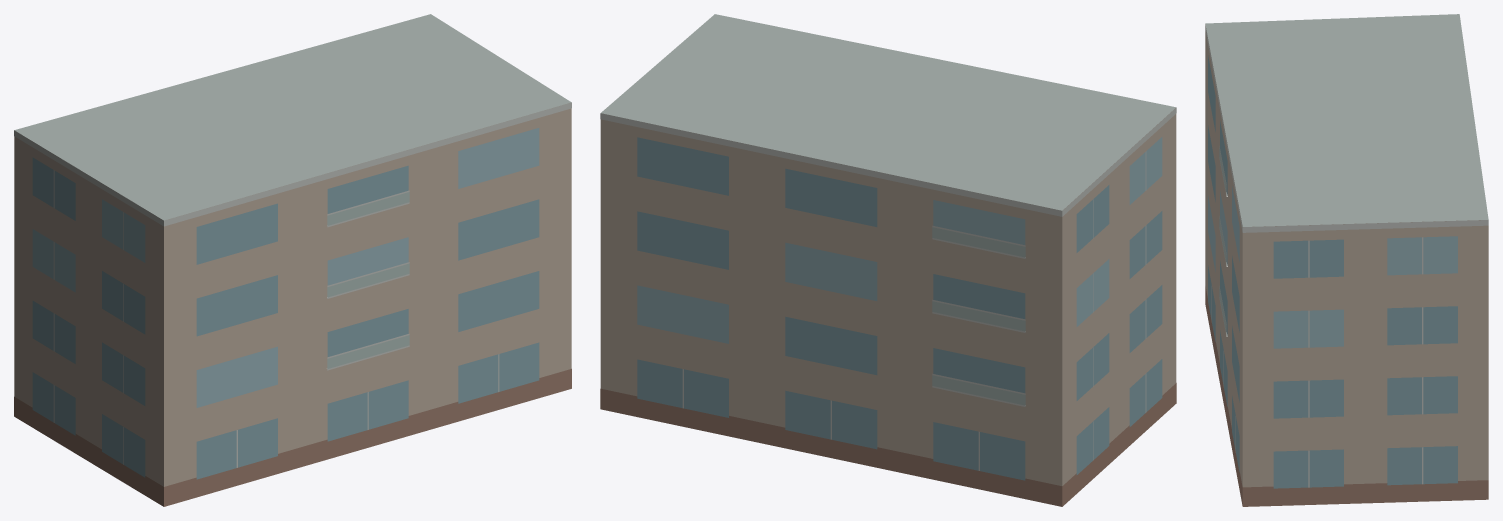
File: survey-upis-33046907.glb
The picture shows the model from 3 angles, left to right: view 1: azimuth 30°, elevation 25°; view 2: azimuth 150°, elevation 25°; view 3: azimuth 270°, elevation 25°; orthographic projection. The views are drawn at different scales.
Visible parts, largest first — view 1: survey-upis-33046907.tmp; view 2: survey-upis-33046907.tmp; view 3: survey-upis-33046907.tmp.
Part boxes in pixels (bbox=[...]): survey-upis-33046907.tmp: bbox=[14, 14, 571, 506]; survey-upis-33046907.tmp: bbox=[600, 14, 1176, 506]; survey-upis-33046907.tmp: bbox=[1205, 14, 1488, 506].
Size of the model in its own units: 19.12 by 11.7 by 10.75.
